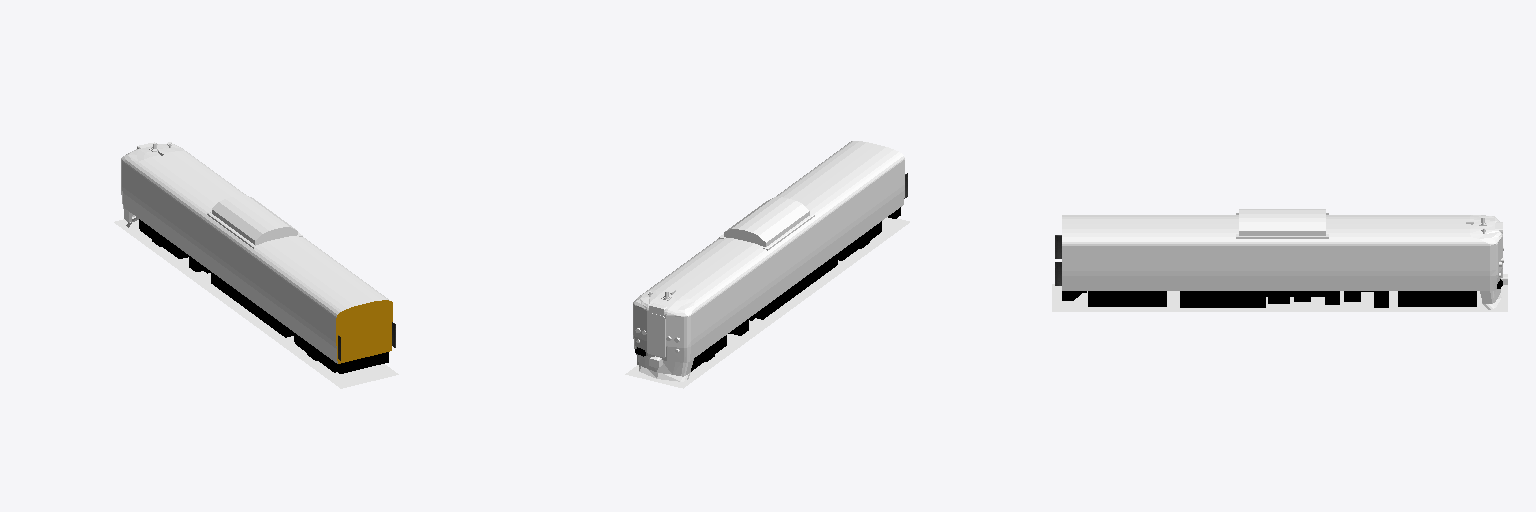
3 renders of one model, left to right at view 1: azimuth 30°, elevation 25°; view 2: azimuth 150°, elevation 25°; view 3: azimuth 270°, elevation 25°, orthographic.
Visible parts, largest first — view 1: obj1; view 2: obj1; view 3: obj1.
Boxes of the visible parts, box(x1,y1,x2,y2) form: obj1: box(114, 142, 398, 388); obj1: box(625, 141, 909, 388); obj1: box(1052, 209, 1507, 311).
Size of the model in its own units: 2.98 by 4.14 by 20.22.
12 materials, 3 textured.